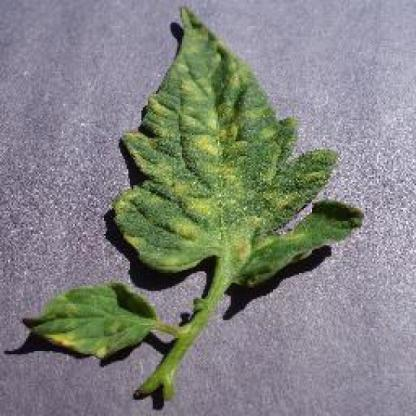Tomato_Leaf_Mold: (115, 5, 362, 282)
